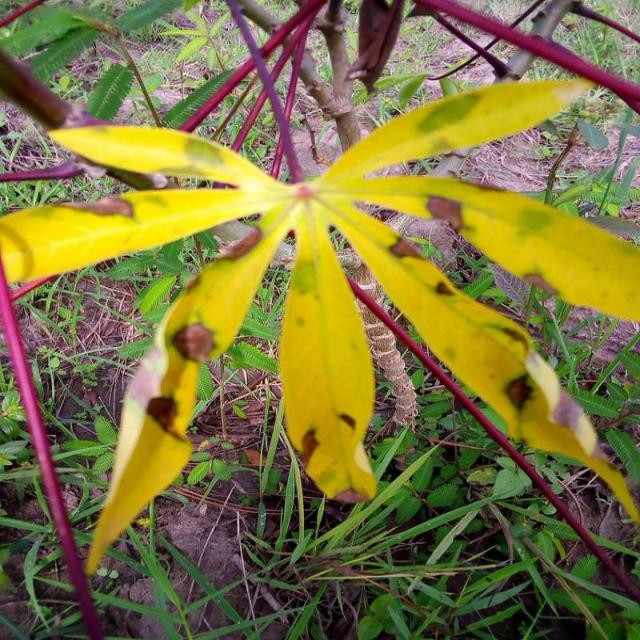cassava leaf: (1, 21, 638, 577)
